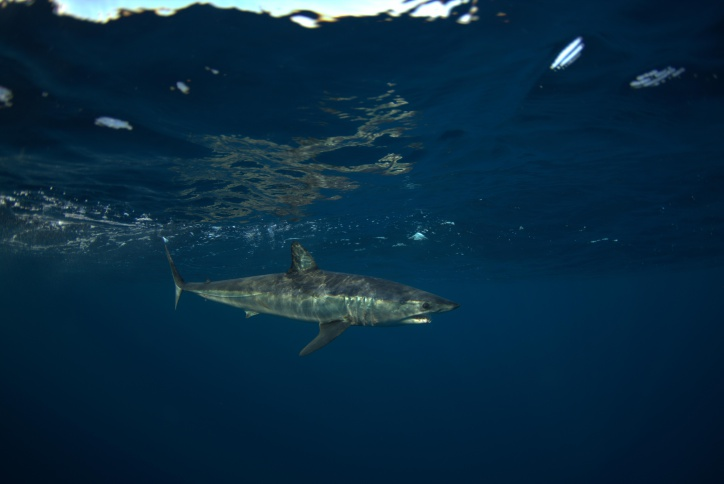Mako: (138, 229, 466, 363)
